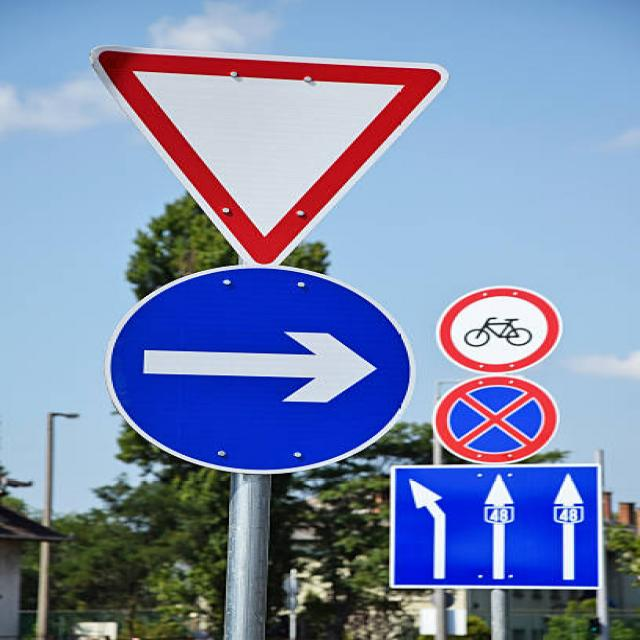give_way: (81, 30, 451, 268)
